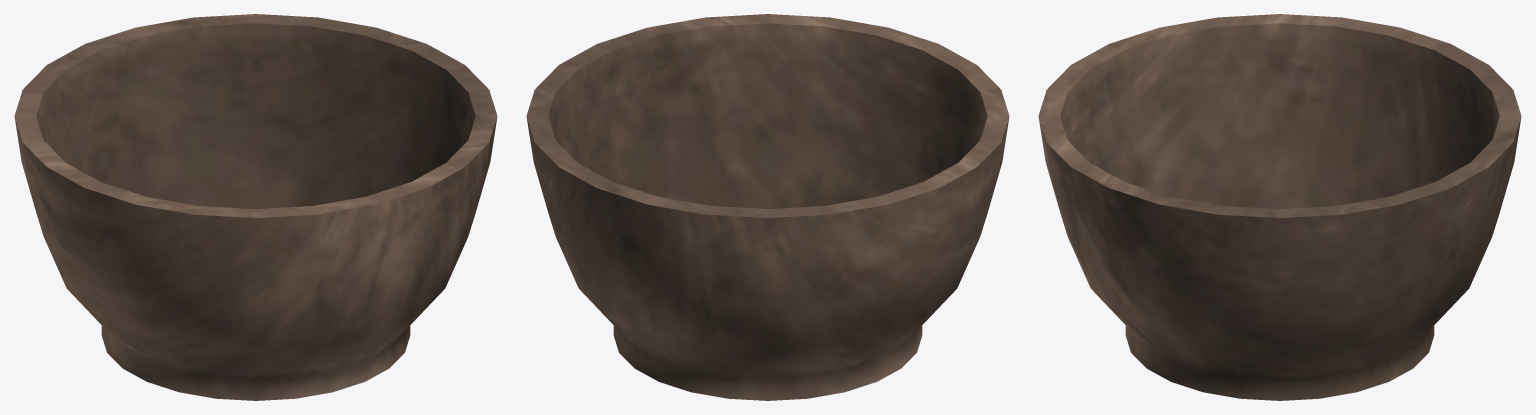
Rendered from SM_Wooden_Plate_2.FBX.
The picture shows the model from 3 angles, left to right: view 1: azimuth 30°, elevation 25°; view 2: azimuth 150°, elevation 25°; view 3: azimuth 270°, elevation 25°; orthographic projection.
Parts seen in each view (by area): view 1: SM_Wooden_Plate_2; view 2: SM_Wooden_Plate_2; view 3: SM_Wooden_Plate_2.
Boxes of the visible parts, x1,y1,x2,y2 form: SM_Wooden_Plate_2: (14,14,497,400); SM_Wooden_Plate_2: (526,14,1009,400); SM_Wooden_Plate_2: (1038,14,1521,400).
Bounding box in the file's own units: 19.92 × 10 × 19.92.
